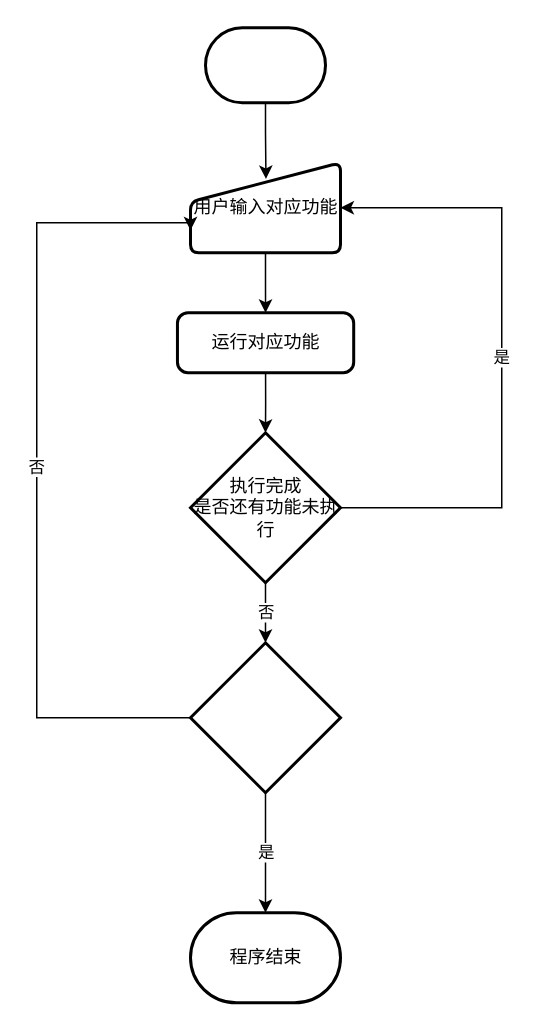
Some shapes in this 540 by 1029 pixel diagram are drawn without their labels. The shapes that lost their labels are listed below. From the top down, each one's centre as x and y in pixels, then its label:
At [264,65]: "运行".
At [264,717]: "是否退出".
